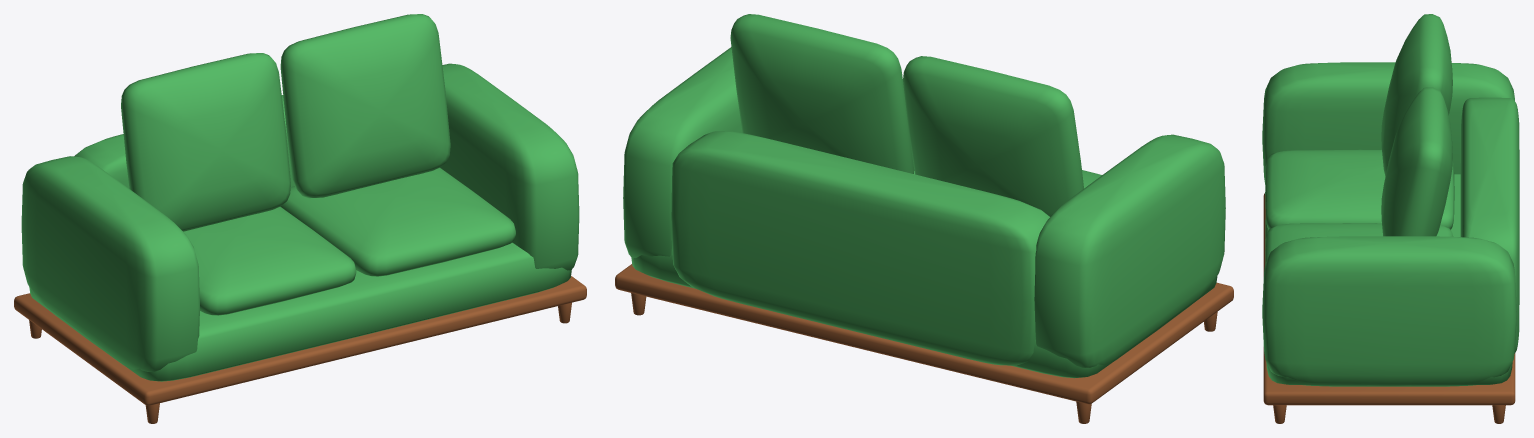
The model's file is sofa_base_madeira_verde.glb.
3 renders of one model, left to right at view 1: azimuth 30°, elevation 25°; view 2: azimuth 150°, elevation 25°; view 3: azimuth 270°, elevation 25°, orthographic. The views are drawn at different scales.
Visible parts, largest first — view 1: sofa_base_madeira_verde; view 2: sofa_base_madeira_verde; view 3: sofa_base_madeira_verde.
Part boxes in pixels (box(x1,y1,x2,y2)): sofa_base_madeira_verde: box(14, 14, 586, 423); sofa_base_madeira_verde: box(615, 14, 1233, 423); sofa_base_madeira_verde: box(1262, 14, 1519, 423).
Size of the model in its own units: 1.62 by 0.9311 by 0.87.
1 material, 1 textured.
